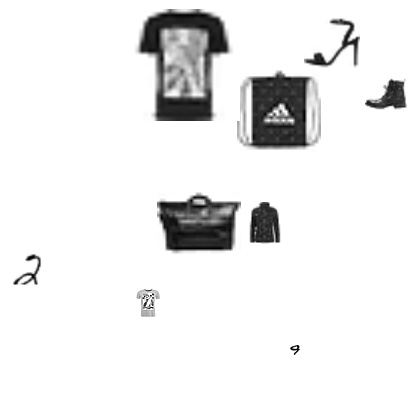2: (9, 250, 51, 292)
9: (288, 342, 302, 356)
Ankle_boot: (365, 73, 407, 115)
Bag: (157, 181, 241, 265), (237, 68, 321, 152)
Coat: (244, 202, 286, 244)
Sandal: (304, 15, 360, 71)
T-shirt/top: (128, 9, 240, 121), (134, 289, 162, 317)
